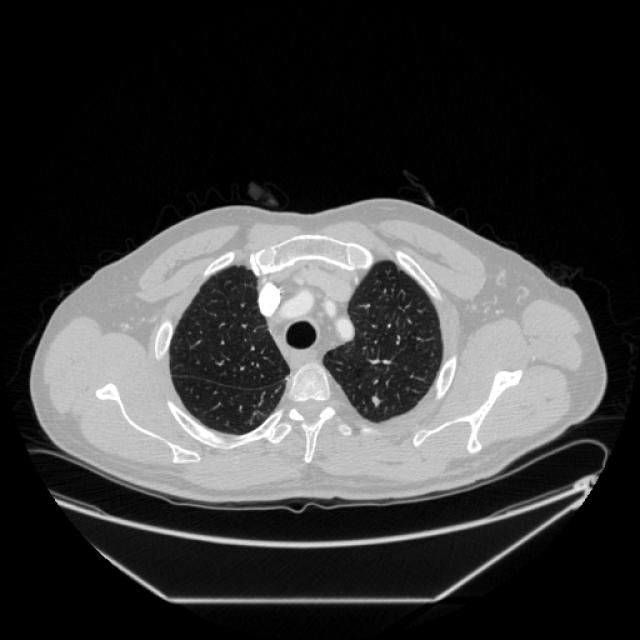nodule: (363, 388, 385, 410)
